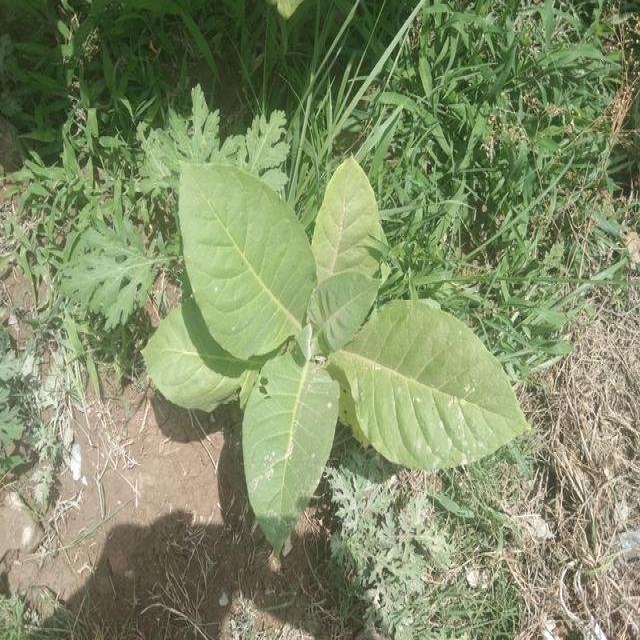crop: (132, 138, 527, 532)
